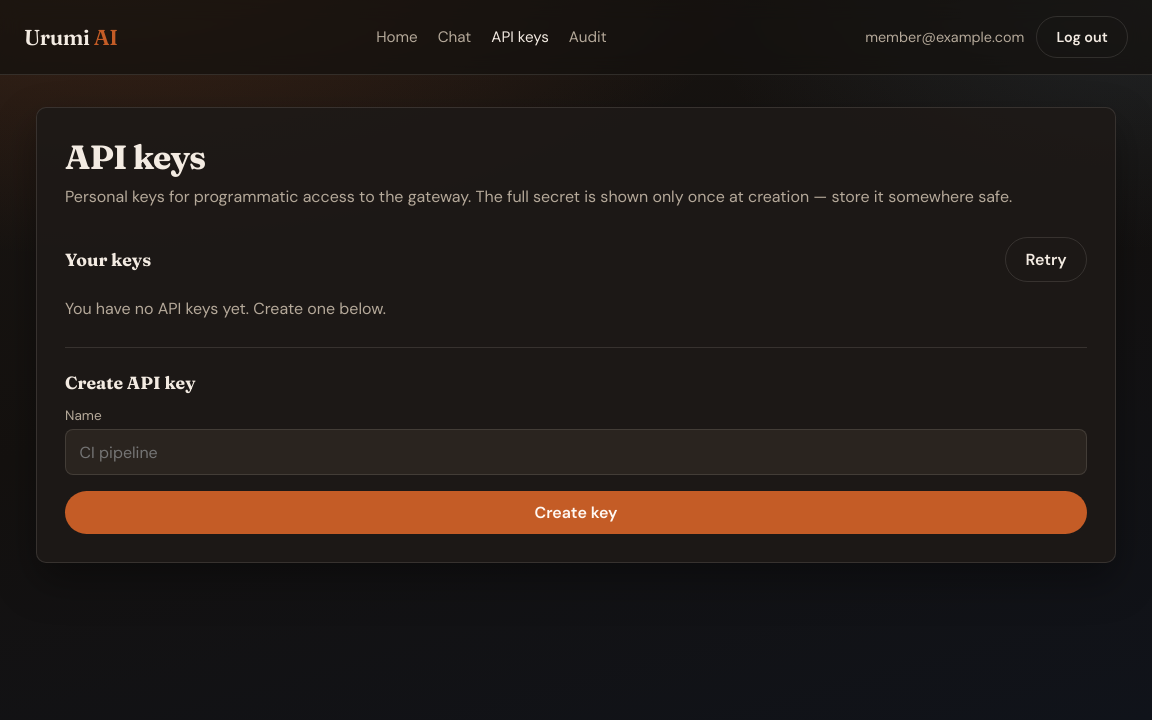
Test case: personal API key management › creates a key, shows the secret once, and copies it
The image size is (1152, 720).
Expected: the text "You have no API keys yet. Create one below." is shown, [65,298,386,319]
In the field labelled "Name": (576, 452) [65,429,1087,475], type "Deploy bot"
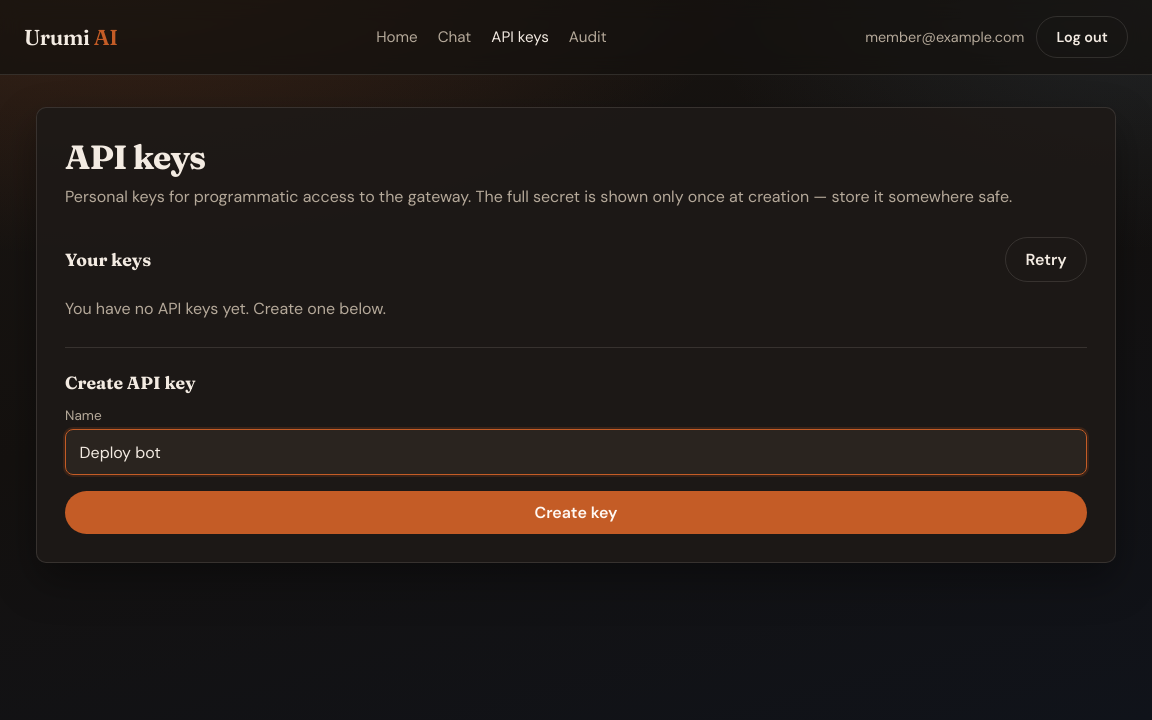
Click the button "Create key": click(576, 512) [65,491,1087,534]
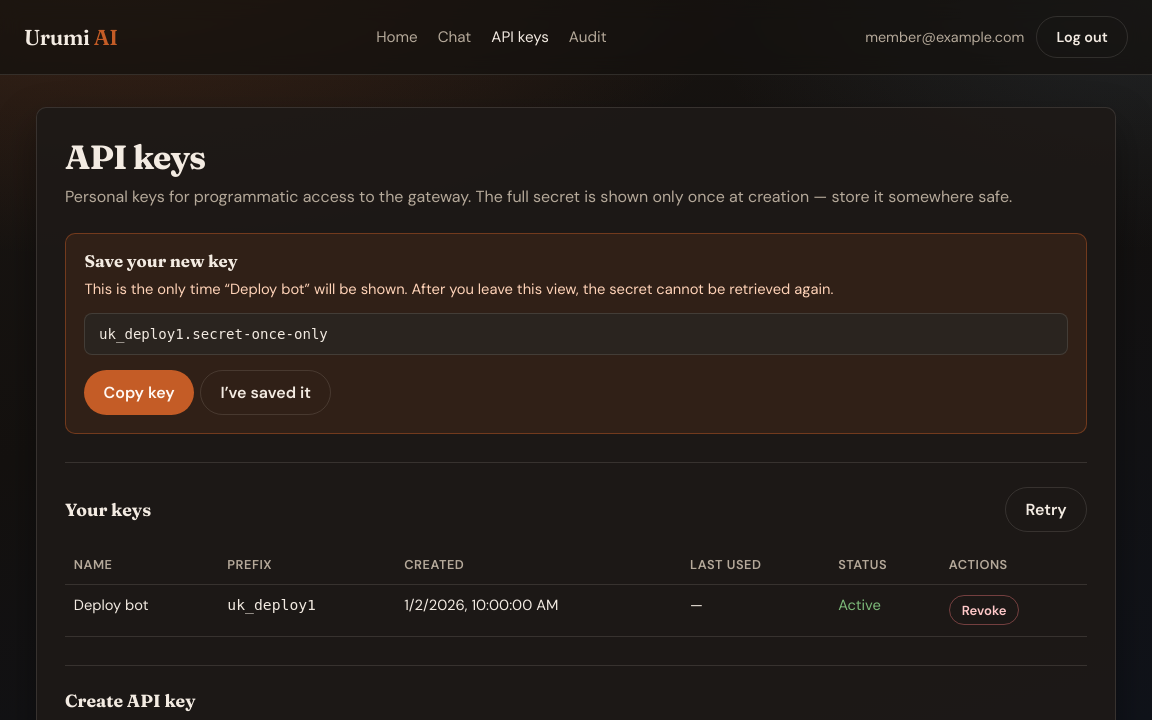
Now the text with test id "raw-api-key" reads "uk_deploy1.secret-once-only", box [99,326,328,342]
Now the text "Deploy bot" is shown, box [65,584,219,636]
Click the button "Copy key": click(139, 393) [84,370,194,415]
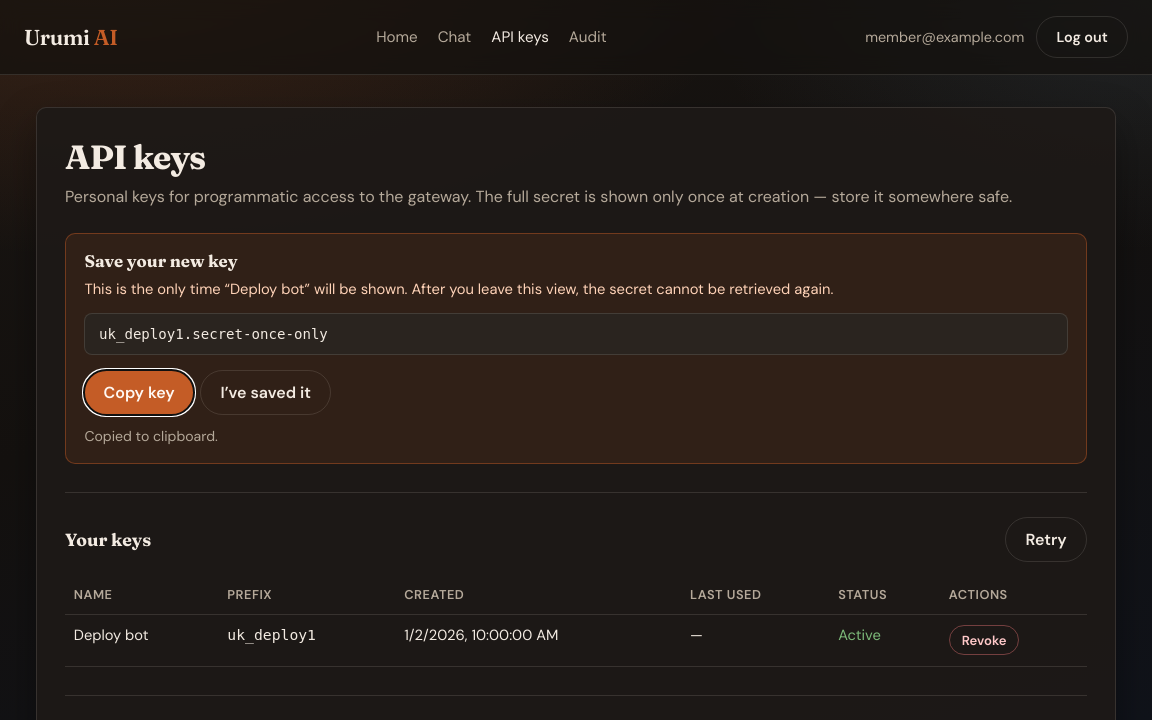
Now the text "Copied to clipboard." is shown, box [84,427,218,445]
